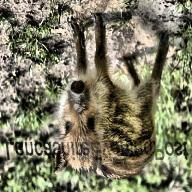boar: (52, 29, 175, 181)
